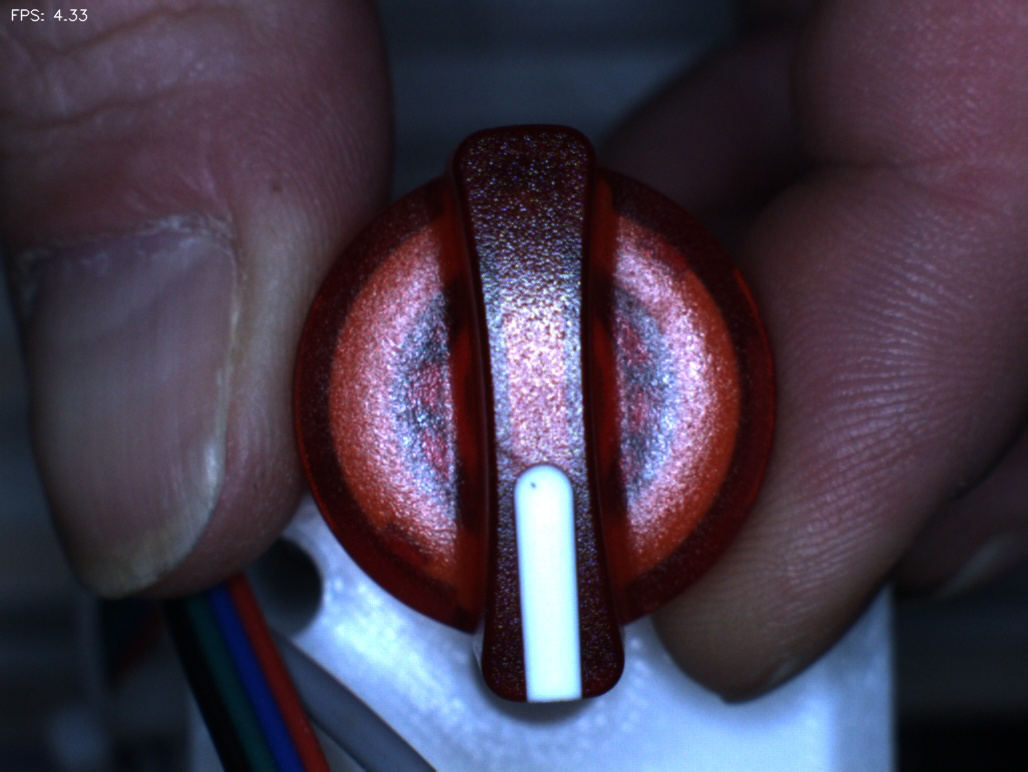PointNoir: (497, 456, 566, 522)
